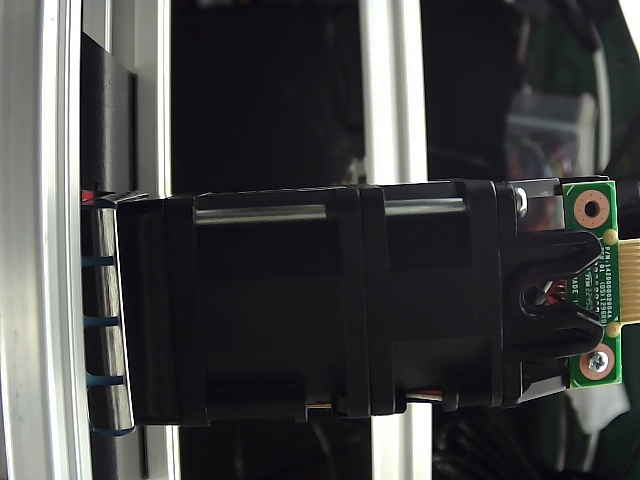4_1: (555, 164, 625, 231)
